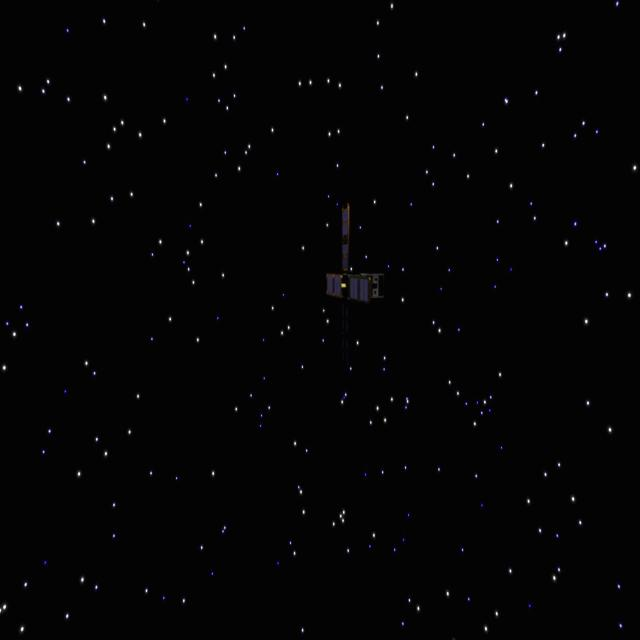medium_debris: (304, 205, 394, 330)
